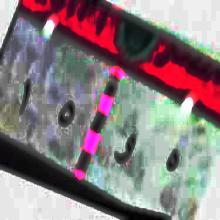1: (17, 68, 35, 130)
5: (56, 87, 78, 147)
haa: (162, 144, 182, 180)
waw: (108, 126, 139, 174)
